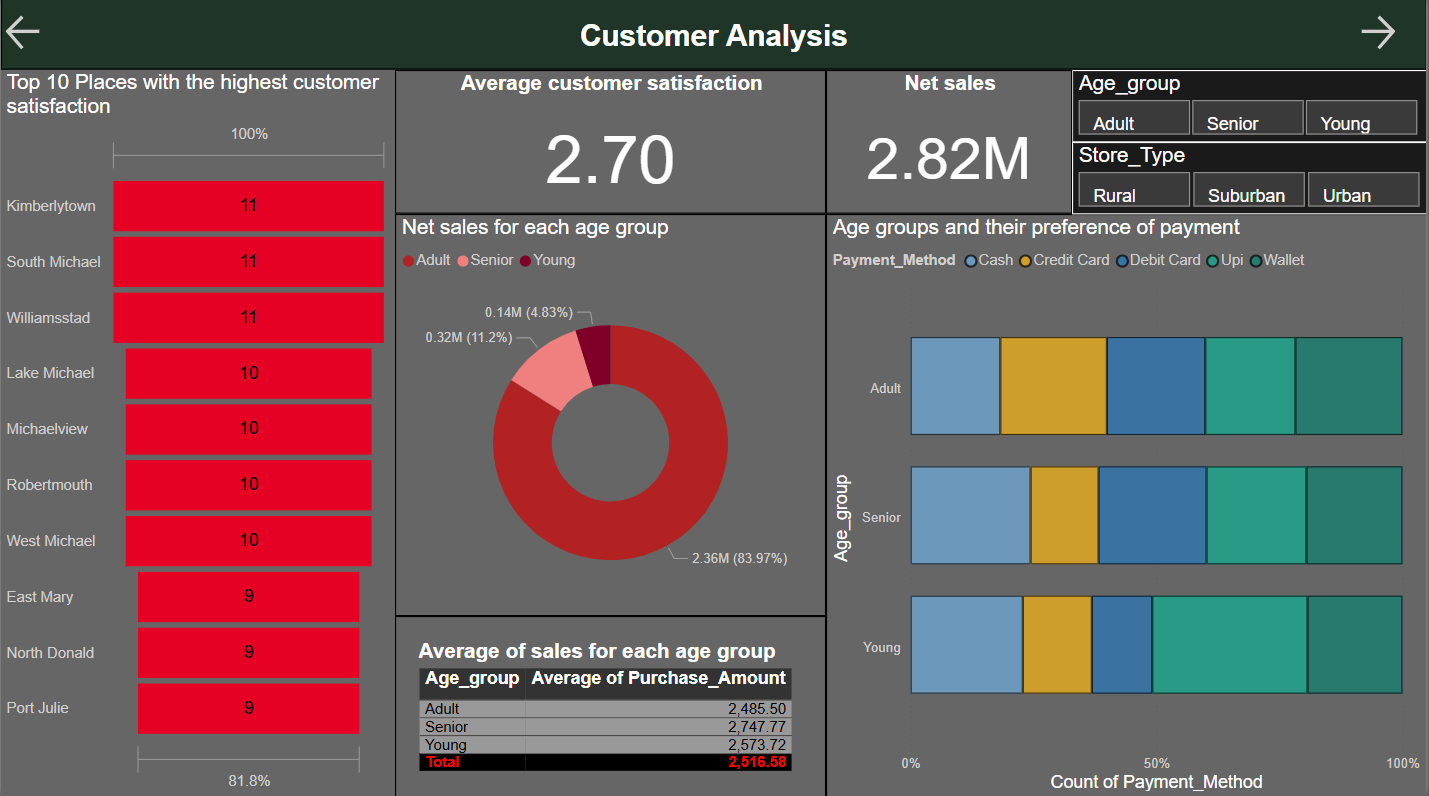

Layout of this report page (visuals, bound fields, positions):
{"tool":"powerbi","page":{"name":"Page 2","canvas":[1280,720],"ordinal":1},"visuals":[{"type":"funnel","title":"Top 10 Places with the highest customer satisfaction","fields":{"Category":["preprocessed_data_2.Store_Location"],"Y":["Sum(preprocessed_data_2.Customer_Satisfaction_Rating)"]},"box":[0,66.4,353.7,653.6],"z":0},{"type":"donutChart","title":"Net sales for each age group","fields":{"Category":["preprocessed_data_2.Age_group"],"Y":["Sum(preprocessed_data_2.net_sales)"]},"box":[354,196,387,361],"z":1000},{"type":"card","title":"Average customer satisfaction","fields":{"Values":["Avg(preprocessed_data_2.Customer_Satisfaction_Rating)"]},"box":[353.7,66.4,386.9,129.3],"z":2000},{"type":"advancedSlicerVisual","fields":{"Values":["preprocessed_data_2.Age_group"]},"box":[961.5,66.4,318.7,64.6],"z":3000},{"type":"textbox","box":[0,0,1280,66],"z":4000},{"type":"tableEx","title":"Average of sales for each age group","fields":{"Values":["preprocessed_data_2.Age_group","Avg(preprocessed_data_2.Purchase_Amount)"]},"box":[353.7,556.6,386.9,163.4],"z":5000},{"type":"actionButton","box":[0,12.6,60.1,40.4],"z":6000},{"type":"hundredPercentStackedBarChart","title":"Age groups and their preference of payment","fields":{"Category":["preprocessed_data_2.Age_group"],"Y":["CountNonNull(preprocessed_data_2.Payment_Method)"],"Series":["preprocessed_data_2.Payment_Method"]},"box":[740.6,195.7,539.6,524.3],"z":7000},{"type":"card","title":"Net sales","fields":{"Values":["Sum(preprocessed_data_2.net_sales)"]},"box":[740.6,66.4,220.8,129.3],"z":8000},{"type":"advancedSlicerVisual","fields":{"Values":["preprocessed_data_2.Store_Type"]},"box":[961.5,131.1,318.7,64.6],"z":9000},{"type":"actionButton","box":[1215.6,12.6,64.6,40.4],"z":10000}]}

Visuals, with their boxes in screenshot pixels (x1, y1, x2, y2), scaled from the page's 1280x720 canvas onto the 1429x796 screenshot:
"Top 10 Places with the highest customer satisfaction" funnel: 0/73/395/795
"Net sales for each age group" donutChart: 395/217/827/616
"Average customer satisfaction" card: 395/73/827/216
advancedSlicerVisual - preprocessed_data_2.Age_group: 1073/73/1428/145
textbox: 0/0/1428/73
"Average of sales for each age group" tableEx: 395/615/827/795
actionButton: 0/14/67/59
"Age groups and their preference of payment" hundredPercentStackedBarChart: 827/216/1428/795
"Net sales" card: 827/73/1073/216
advancedSlicerVisual - preprocessed_data_2.Store_Type: 1073/145/1428/216
actionButton: 1357/14/1428/59
